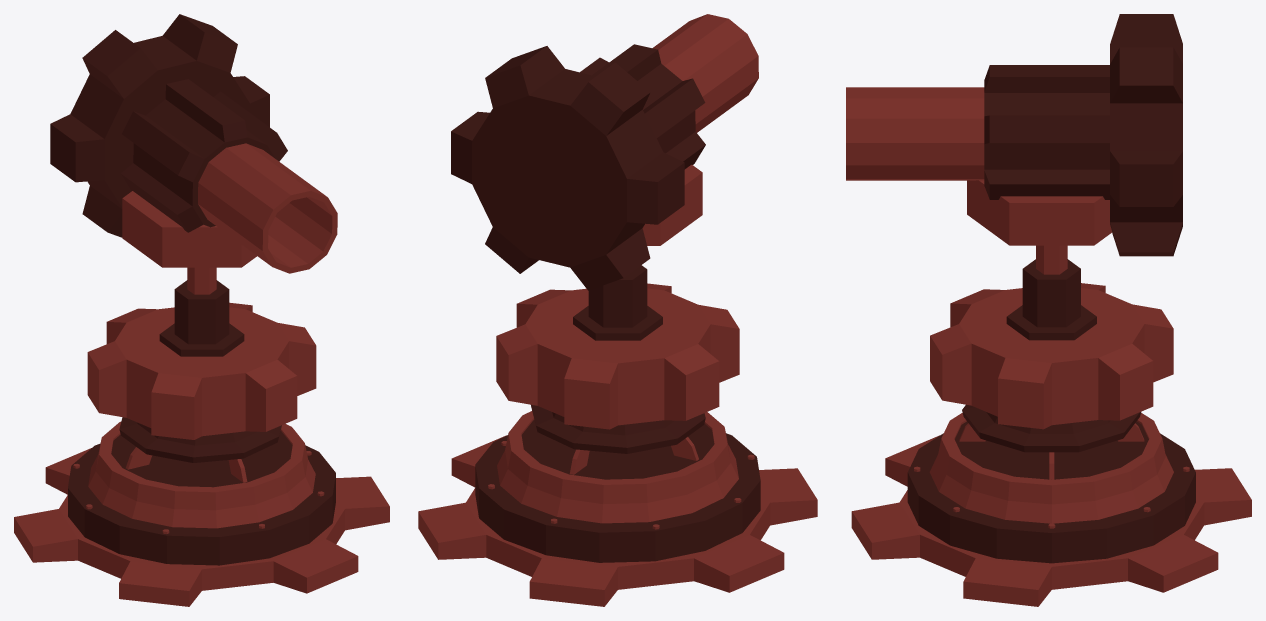
The model's file is Cannon_1.glb.
3 views of the same model, side by side, from view 1: azimuth 30°, elevation 25°; view 2: azimuth 150°, elevation 25°; view 3: azimuth 270°, elevation 25° (orthographic). The views are drawn at different scales.
Visible parts, largest first — view 1: Cannon_1_Gun, Cannon_1_Base, Cannon_1_Mid; view 2: Cannon_1_Gun, Cannon_1_Base, Cannon_1_Mid; view 3: Cannon_1_Gun, Cannon_1_Base, Cannon_1_Mid.
Part boxes in pixels (box(x1,y1,x2,y2)): Cannon_1_Gun: box(50, 14, 337, 273); Cannon_1_Base: box(14, 421, 389, 606); Cannon_1_Mid: box(87, 267, 316, 462); Cannon_1_Gun: box(451, 14, 758, 290); Cannon_1_Base: box(418, 411, 817, 606); Cannon_1_Mid: box(496, 265, 739, 453); Cannon_1_Gun: box(846, 14, 1182, 256); Cannon_1_Base: box(851, 412, 1251, 606); Cannon_1_Mid: box(930, 245, 1173, 452).
Size of the model in its own units: 0.9224 by 1.26 by 0.9356.
